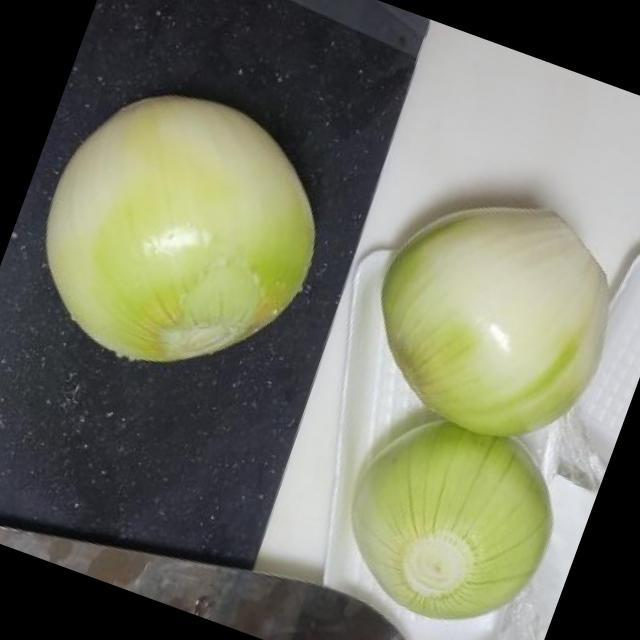Onion: (45, 99, 315, 363), (383, 206, 615, 434), (350, 424, 551, 616)
